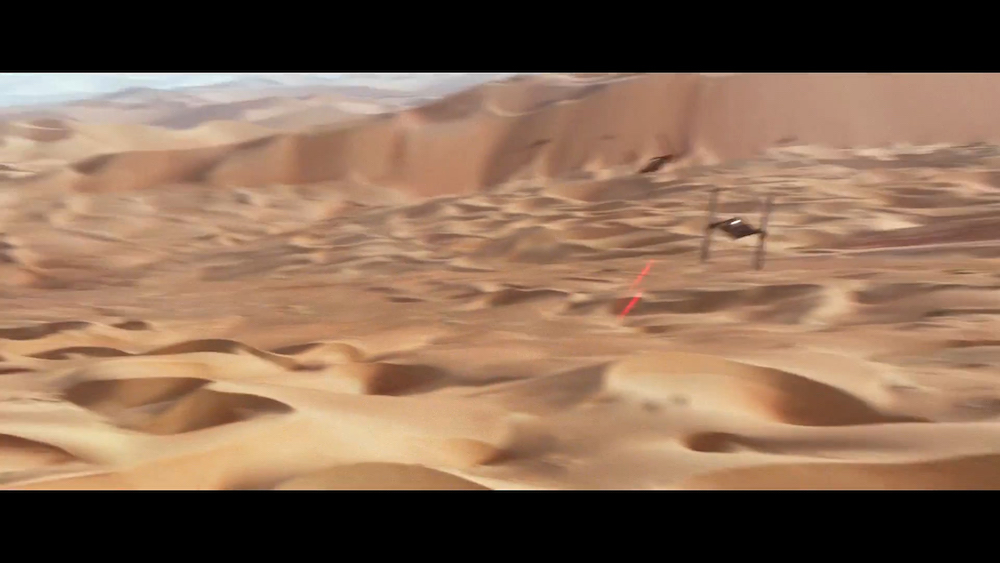Tie Fighter: (698, 191, 775, 272), (623, 135, 686, 200)
